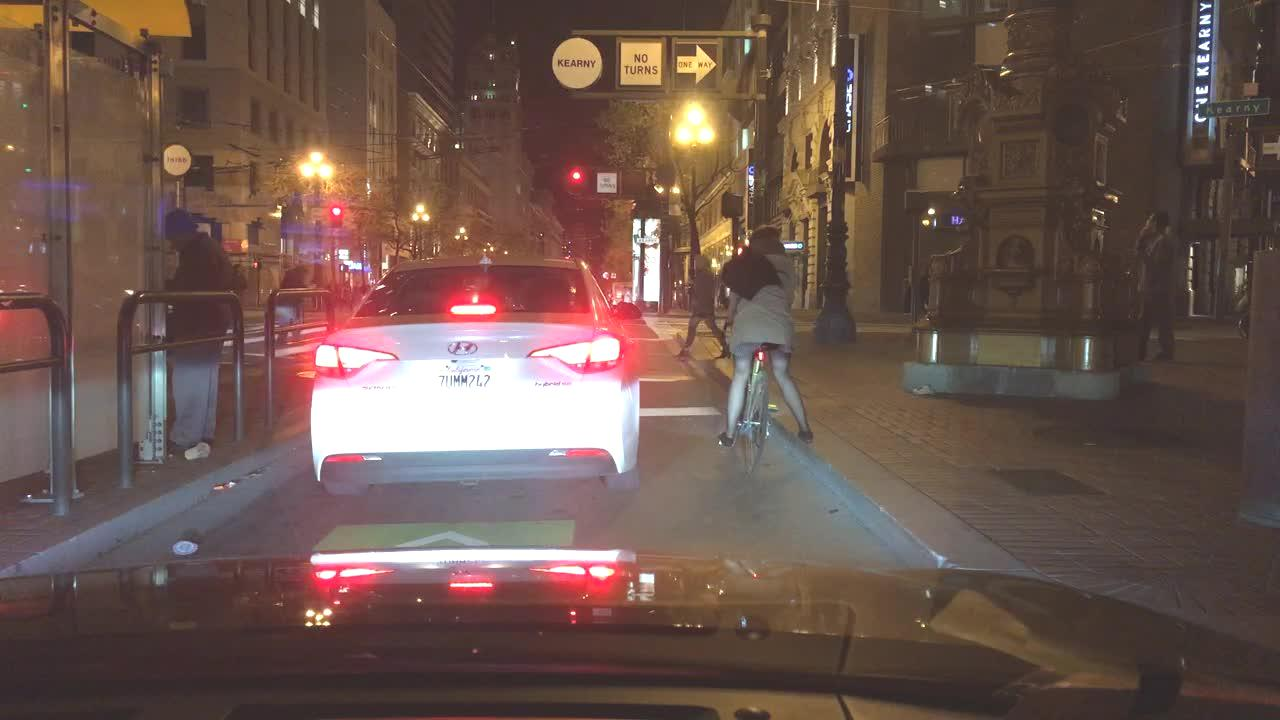Hyundai: (438, 332, 486, 361)
